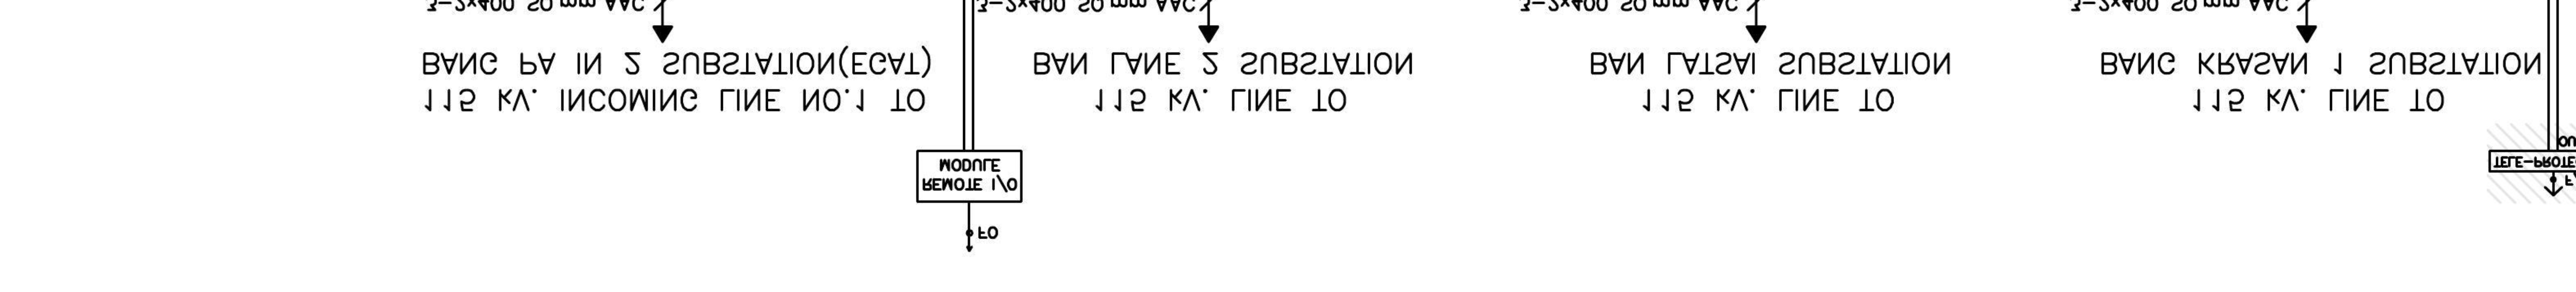remote_io_module: (915, 149, 1022, 203)
